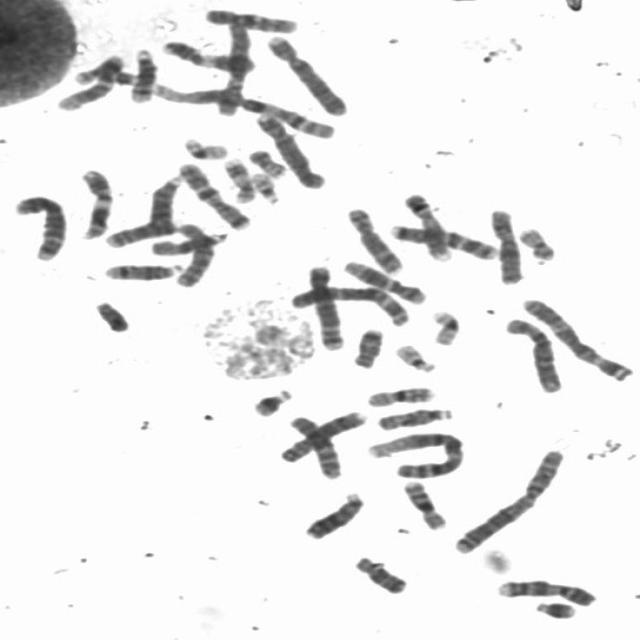A1: (142, 80, 338, 142), (364, 428, 467, 480)
A2: (449, 446, 568, 557), (105, 220, 219, 290)
A3: (518, 295, 634, 383), (285, 283, 413, 328)
B4: (264, 32, 350, 118), (251, 110, 327, 192)
B5: (11, 192, 68, 262), (304, 262, 344, 351)
C10: (284, 413, 344, 480), (201, 6, 299, 34)
C11: (157, 38, 256, 74), (74, 166, 115, 240)
C12: (53, 52, 126, 112), (340, 257, 427, 306)
C6: (502, 314, 564, 394), (210, 21, 252, 119)
C7: (174, 160, 252, 232), (384, 222, 498, 262)
C8: (276, 408, 368, 464), (341, 205, 405, 275)
C9: (400, 190, 452, 262), (493, 576, 598, 608)
D13: (300, 489, 366, 542), (143, 172, 184, 235)
D14: (126, 46, 158, 104), (99, 260, 185, 281)
D15: (147, 230, 231, 256), (374, 405, 455, 431)
E16: (398, 478, 448, 530), (362, 384, 437, 408)
E17: (219, 156, 255, 205), (72, 67, 134, 88)
E18: (349, 554, 408, 595), (348, 325, 386, 369)
F19: (427, 308, 464, 347), (178, 134, 230, 160)
F20: (516, 224, 556, 262), (245, 146, 288, 179)
G21: (248, 384, 296, 419), (530, 598, 578, 620)
G22: (391, 342, 438, 374), (248, 171, 282, 206)
X: (486, 206, 525, 286)
Y: (92, 298, 130, 334)
